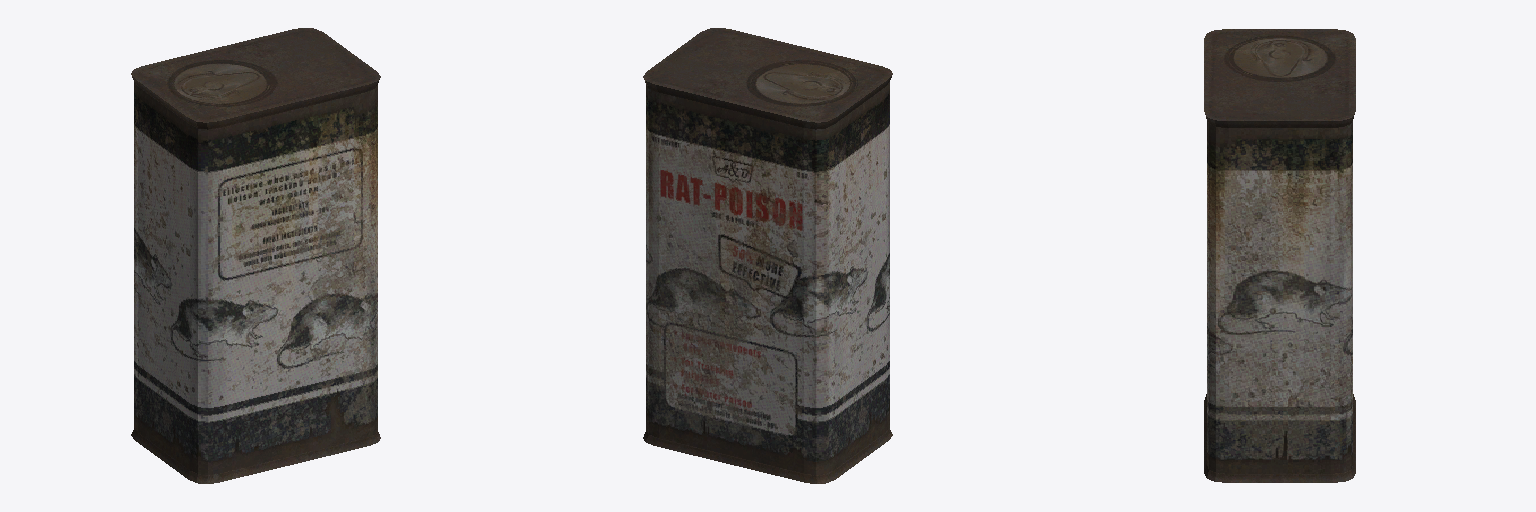
3 renders of one model, left to right at view 1: azimuth 30°, elevation 25°; view 2: azimuth 150°, elevation 25°; view 3: azimuth 270°, elevation 25°, orthographic.
Visible parts, largest first — view 1: RatPoison_0; view 2: RatPoison_0; view 3: RatPoison_0.
Part boxes in pixels (left/top/right/bottom): RatPoison_0: left=131, top=28, right=380, bottom=483; RatPoison_0: left=643, top=28, right=892, bottom=483; RatPoison_0: left=1204, top=29, right=1355, bottom=482.
Size of the model in its own units: 7.68 by 14.02 by 5.32.
Materials: 1 (1 with a texture image).